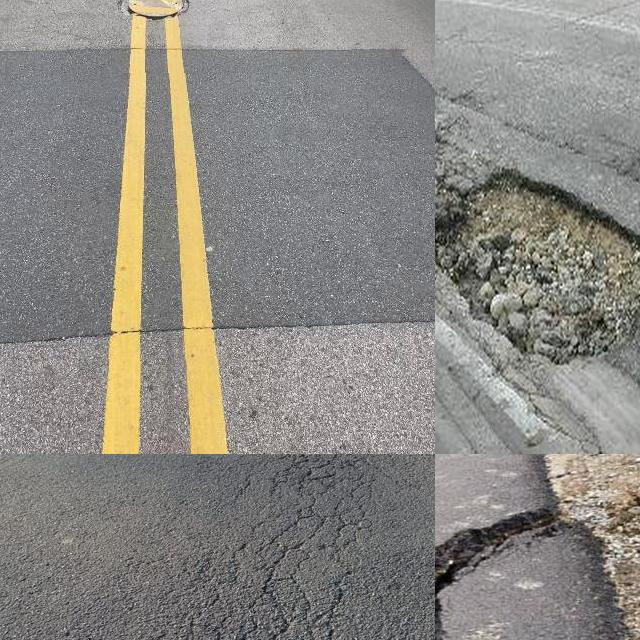Lubang: (435, 174, 640, 355)
Pinggir: (435, 491, 640, 640)
Retak Buaya: (194, 454, 381, 640)
Sambungan: (0, 46, 435, 347)
